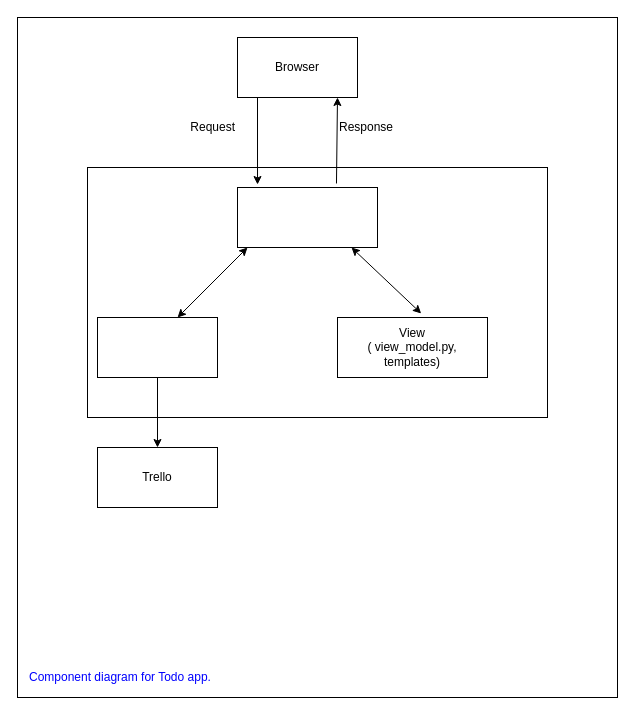
The diagram is 635 pixels wide and 715 high, and some of its shapes have lost their labels. The box of each missing label's shape, as (x1, y1, x2, y2) in pixels:
Controller (app.py): (236, 186, 378, 248)
Model (trello_items.py): (96, 316, 218, 378)
